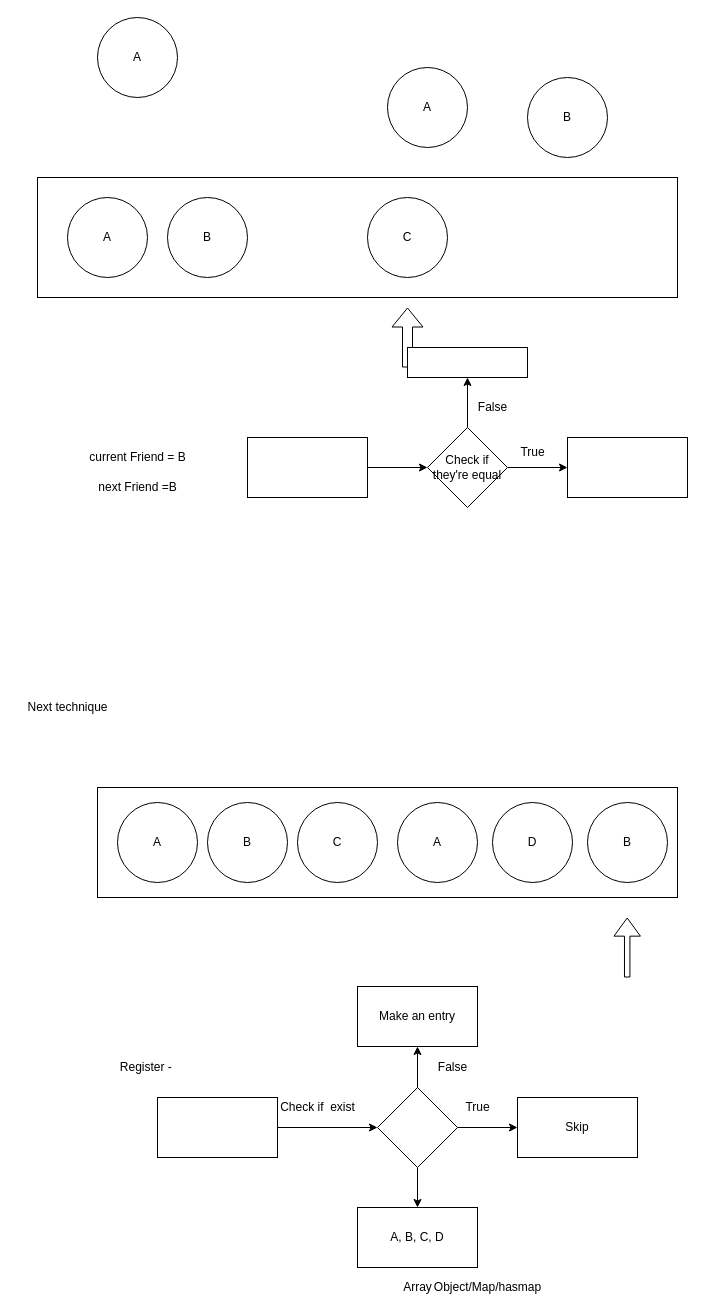
Image size: 705x1315. Some labels were removed from this diagram. The box of each missing label's shape, as (x1, y1, x2, y2) in pixels:
Add them him/her: (406, 346, 528, 378)
Check if the following friend is already there in the register: (156, 1096, 278, 1158)
Compare: (246, 436, 368, 498)
Remove them: (566, 436, 688, 498)
